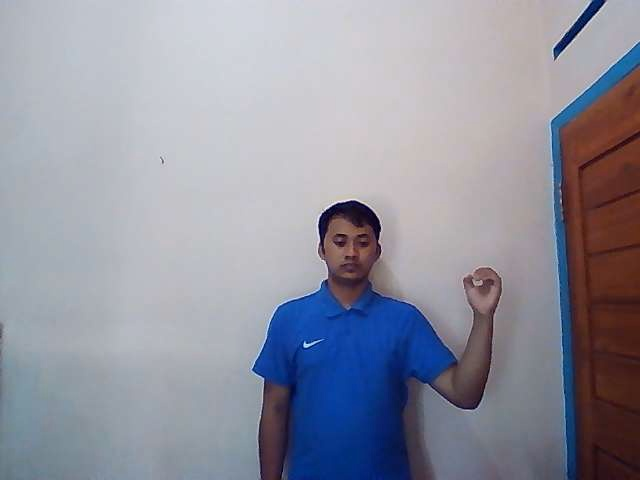O: (460, 265, 506, 314)
